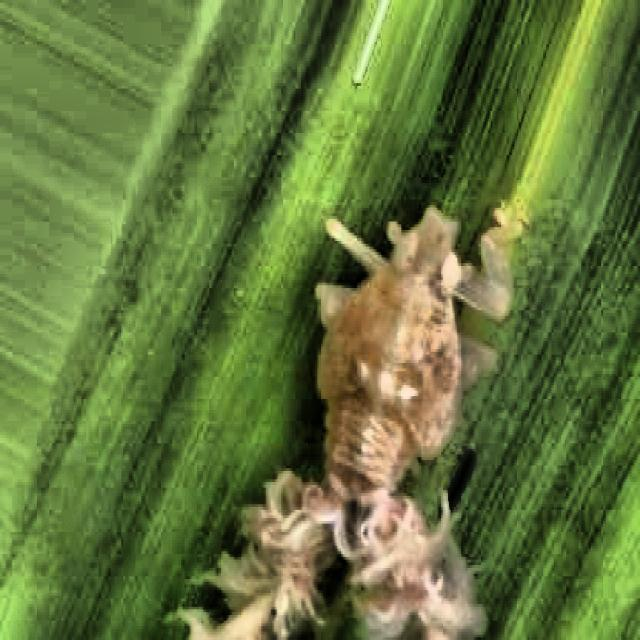Pyrilla-perpusilla: (158, 133, 568, 640)
